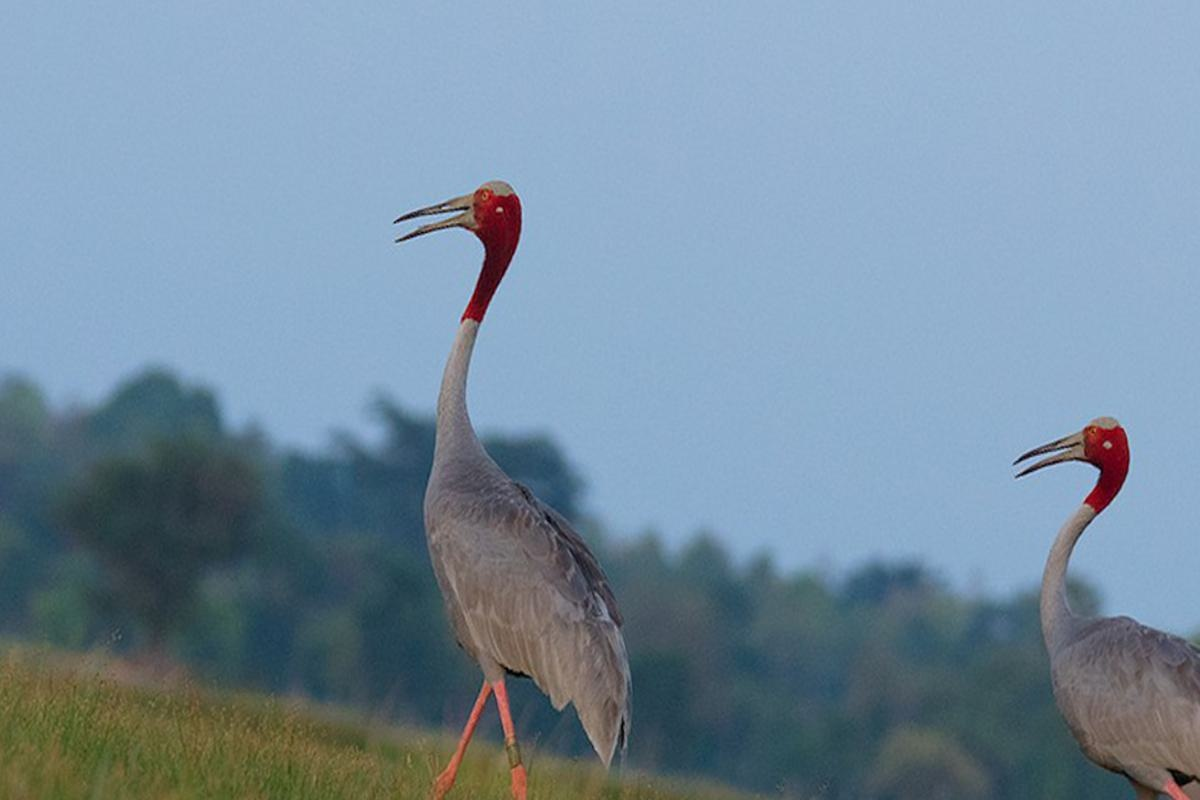crane: (377, 152, 669, 800), (999, 383, 1200, 800)
